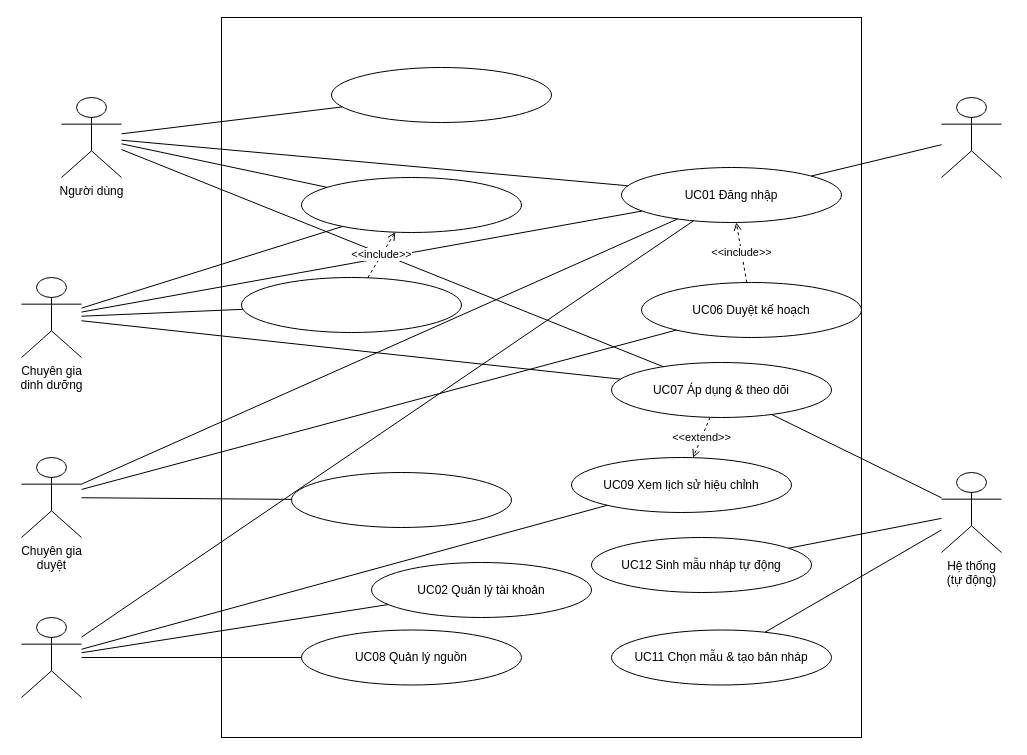
The diagram is 1027 pixels wide and 755 high, and some of its shapes have lost their labels. Here are the shapes that lost their labels. From the top down, the centre of each, then its label:
(441,94): UC04 Ghi nhật ký ăn uống
(971,137): OIDC Provider
(411,204): UC03 Quản lý hồ sơ
(351,304): UC05 Soạn kế hoạch
(401,500): UC10 Duyệt mẫu trong thư viện
(51,657): Quản trị viên
